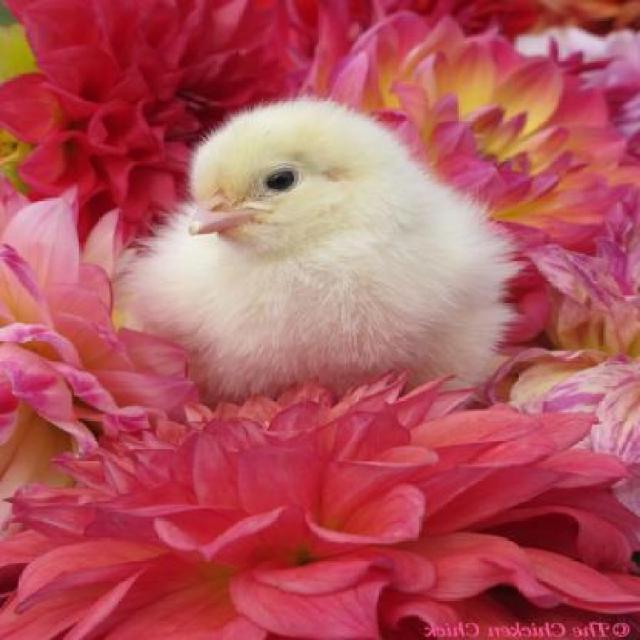poussin: (122, 90, 511, 395)
